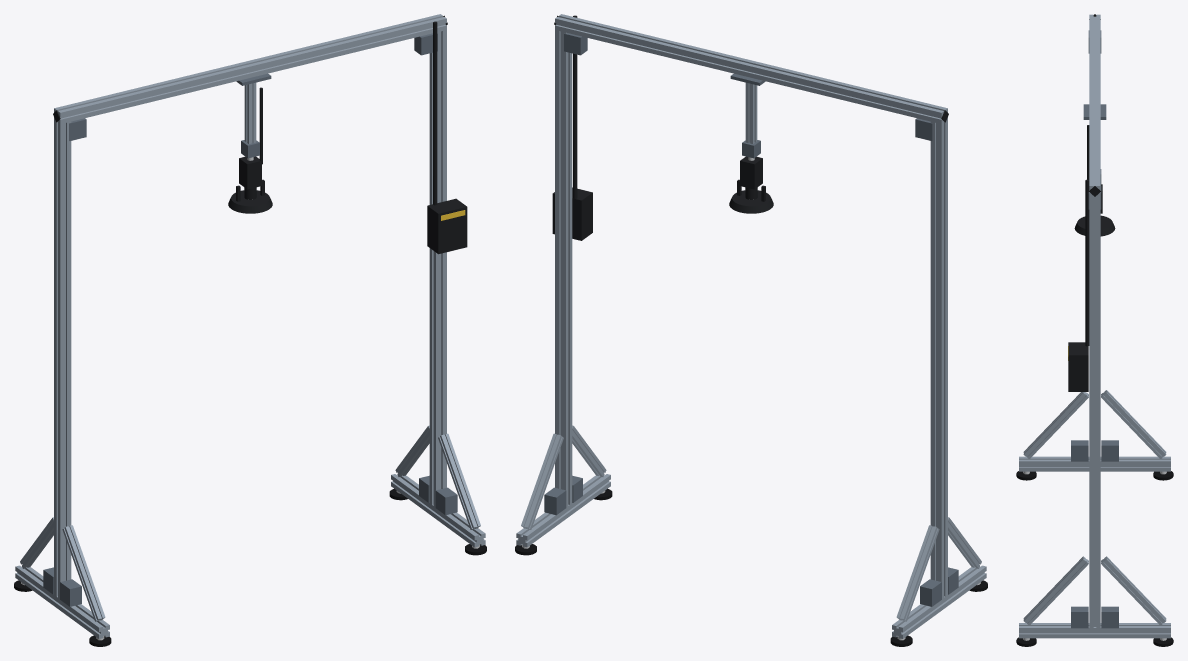
File: vision_gantry.glb
The picture shows the model from 3 angles, left to right: view 1: azimuth 30°, elevation 25°; view 2: azimuth 150°, elevation 25°; view 3: azimuth 270°, elevation 25°; orthographic projection. The views are drawn at different scales.
Parts seen in each view (by area): view 1: Gantry_Frame_alu_anodised, Gantry_Frame_black_paint, Gantry_Frame_alu_dark, Camera_Mount_black_paint, Camera_Mount_alu_anodised; view 2: Gantry_Frame_alu_anodised, Gantry_Frame_alu_dark, Gantry_Frame_black_paint, Camera_Mount_black_paint, Camera_Mount_alu_anodised; view 3: Gantry_Frame_alu_anodised, Gantry_Frame_black_paint, Gantry_Frame_alu_dark, Camera_Mount_black_paint, Gantry_Frame_rubber, Camera_Mount_alu_dark.
Part boxes in pixels (<box>): Gantry_Frame_alu_anodised: <box>15,14,485,638</box>; Gantry_Frame_black_paint: <box>53,15,467,254</box>; Gantry_Frame_alu_dark: <box>43,33,457,606</box>; Camera_Mount_black_paint: <box>228,87,272,213</box>; Camera_Mount_alu_anodised: <box>244,82,256,143</box>; Gantry_Frame_alu_anodised: <box>516,14,986,638</box>; Gantry_Frame_alu_dark: <box>544,33,958,606</box>; Gantry_Frame_black_paint: <box>552,15,948,240</box>; Camera_Mount_black_paint: <box>729,156,773,213</box>; Camera_Mount_alu_anodised: <box>745,82,757,143</box>; Gantry_Frame_alu_anodised: <box>1019,14,1170,638</box>; Gantry_Frame_black_paint: <box>1068,14,1100,391</box>; Gantry_Frame_alu_dark: <box>1071,30,1118,628</box>; Camera_Mount_black_paint: <box>1074,125,1115,236</box>; Gantry_Frame_rubber: <box>1016,471,1173,646</box>; Camera_Mount_alu_dark: <box>1083,104,1106,185</box>.
Bounding box in the file's own units: 1.65 × 2 × 0.62.
